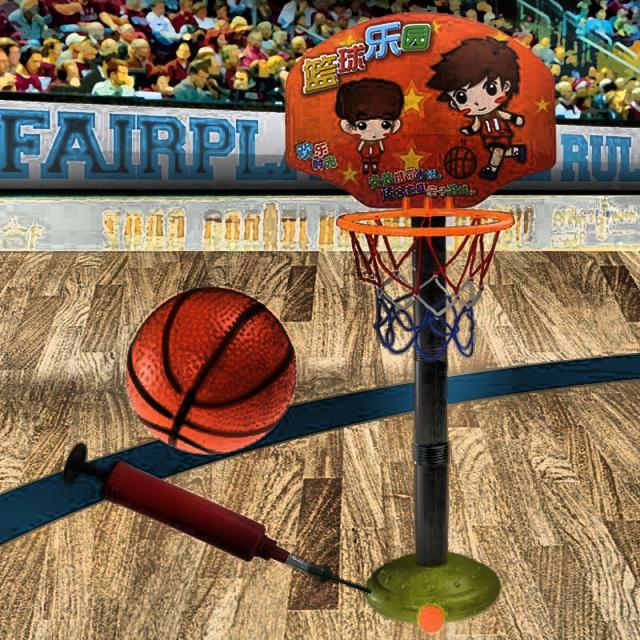board: (128, 287, 297, 454)
rim: (340, 208, 514, 359)
